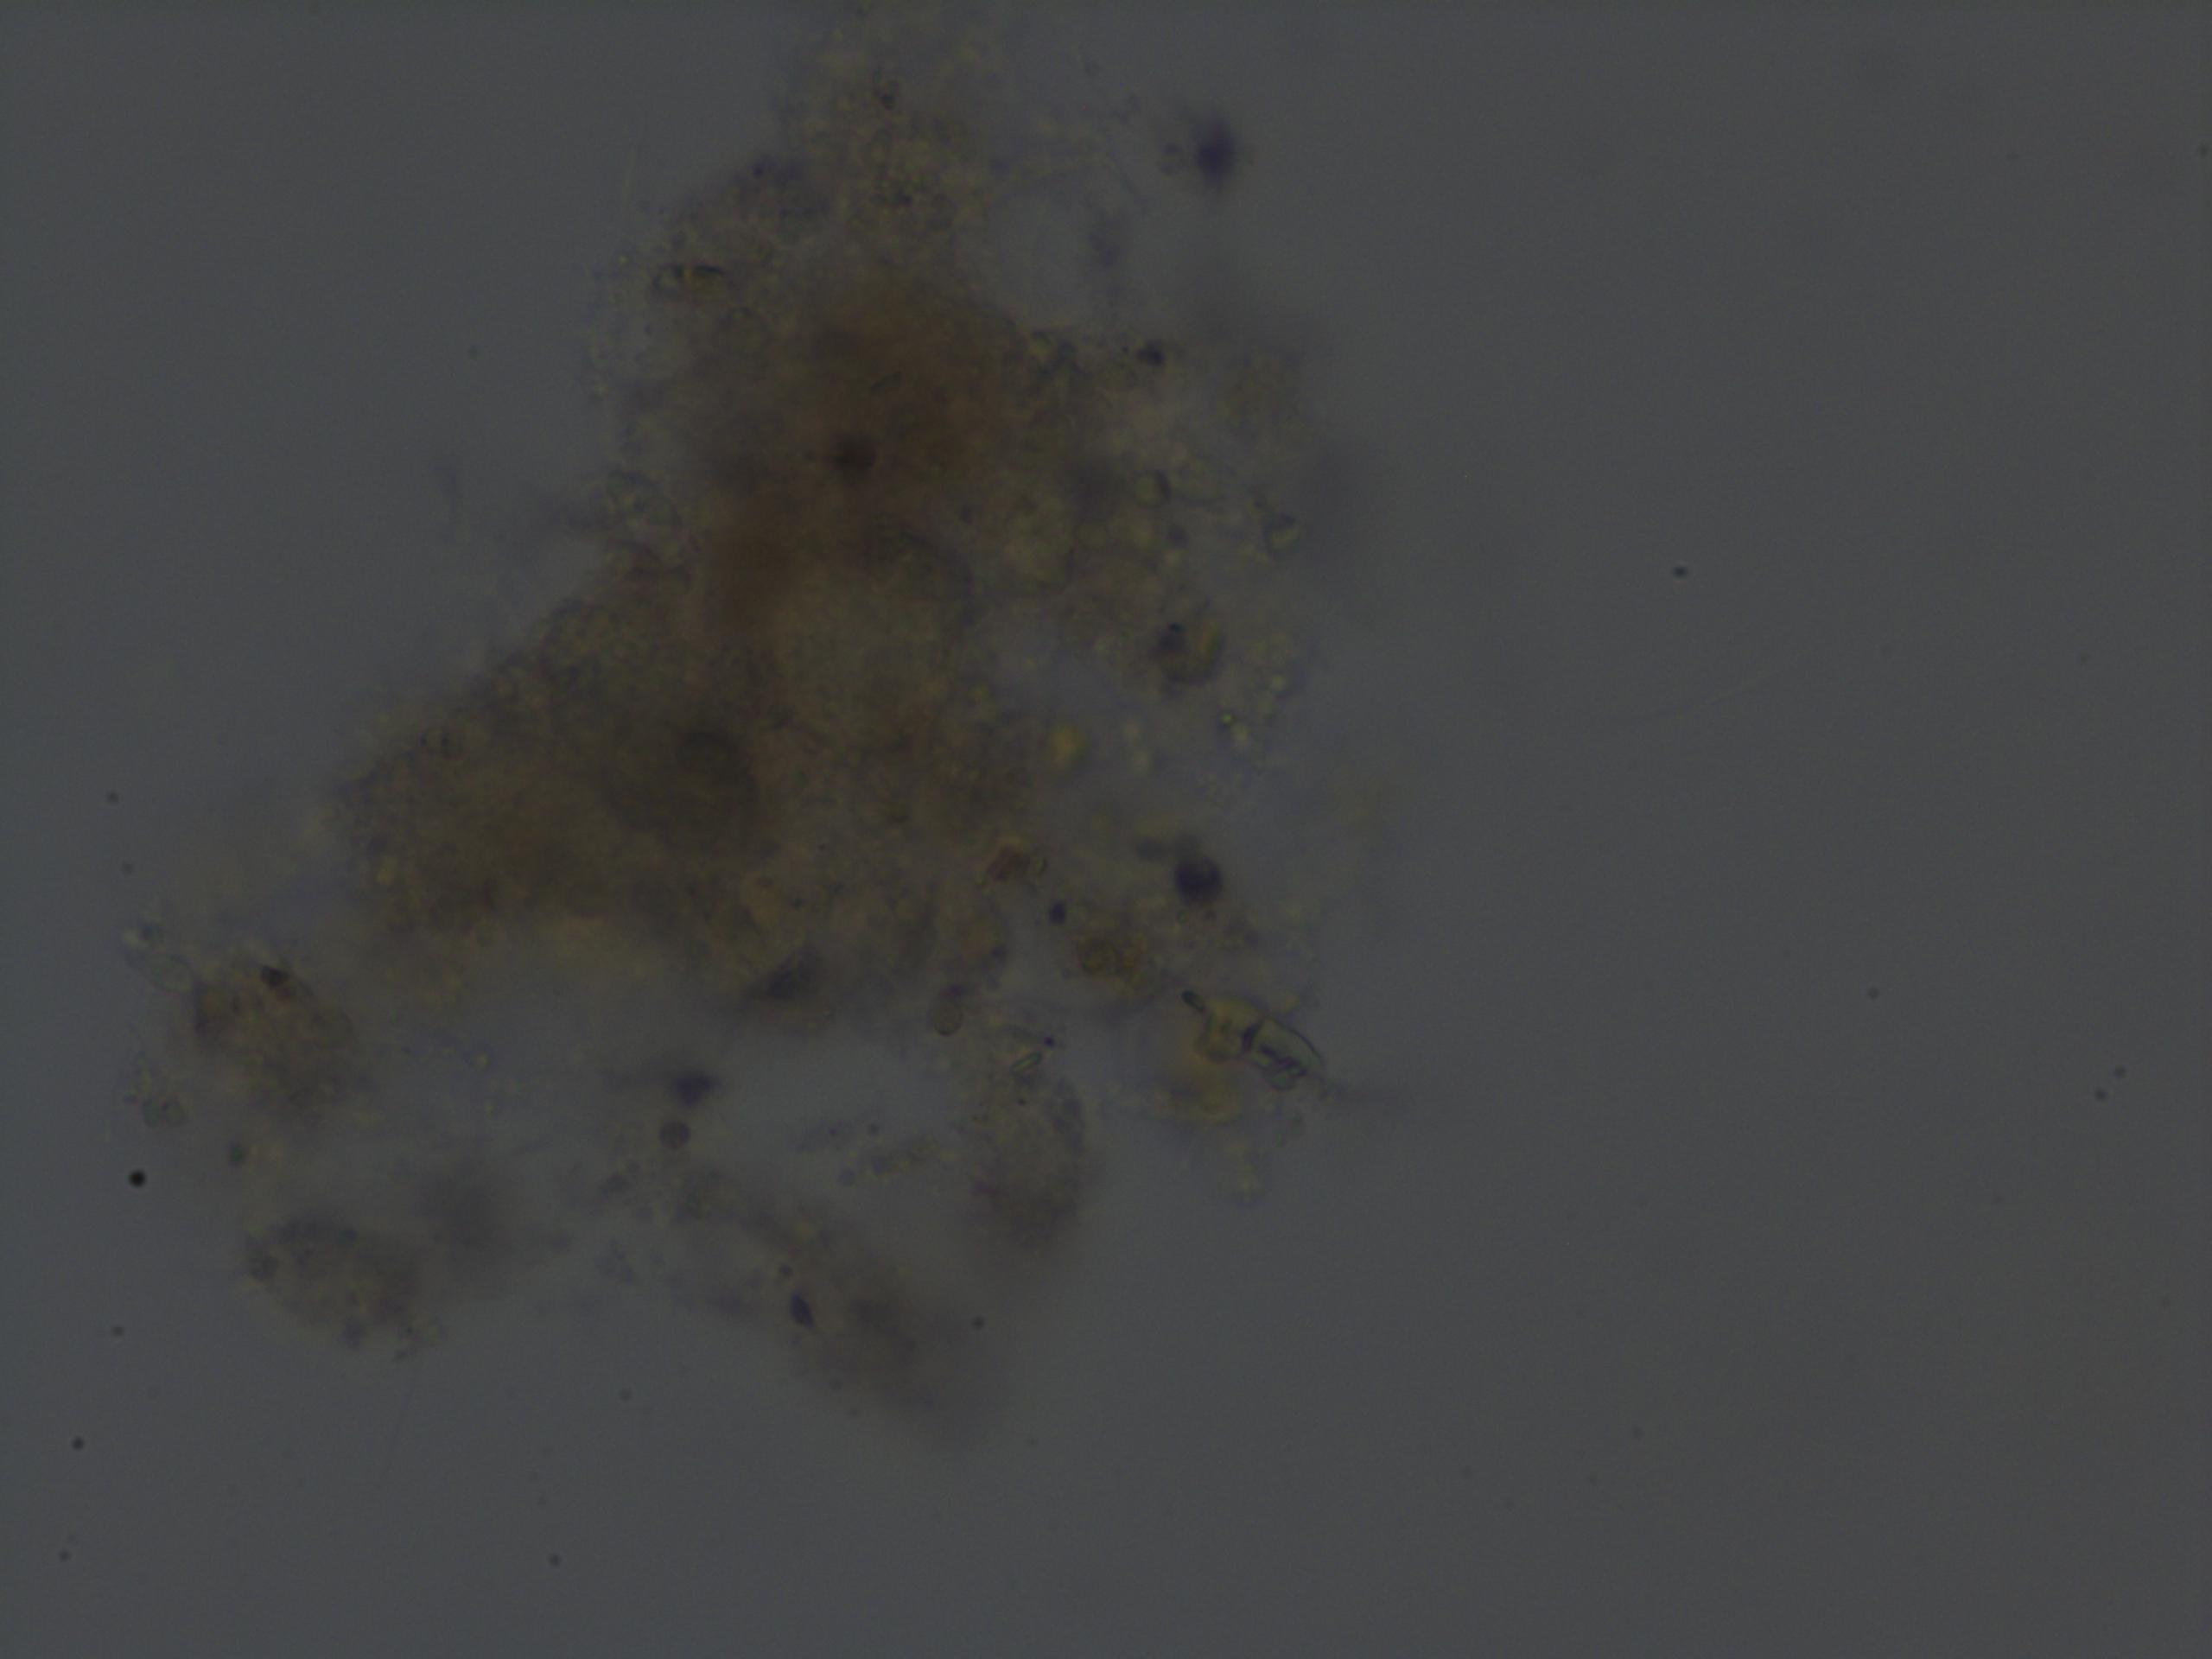open_floc: (174, 9, 1393, 1425)
